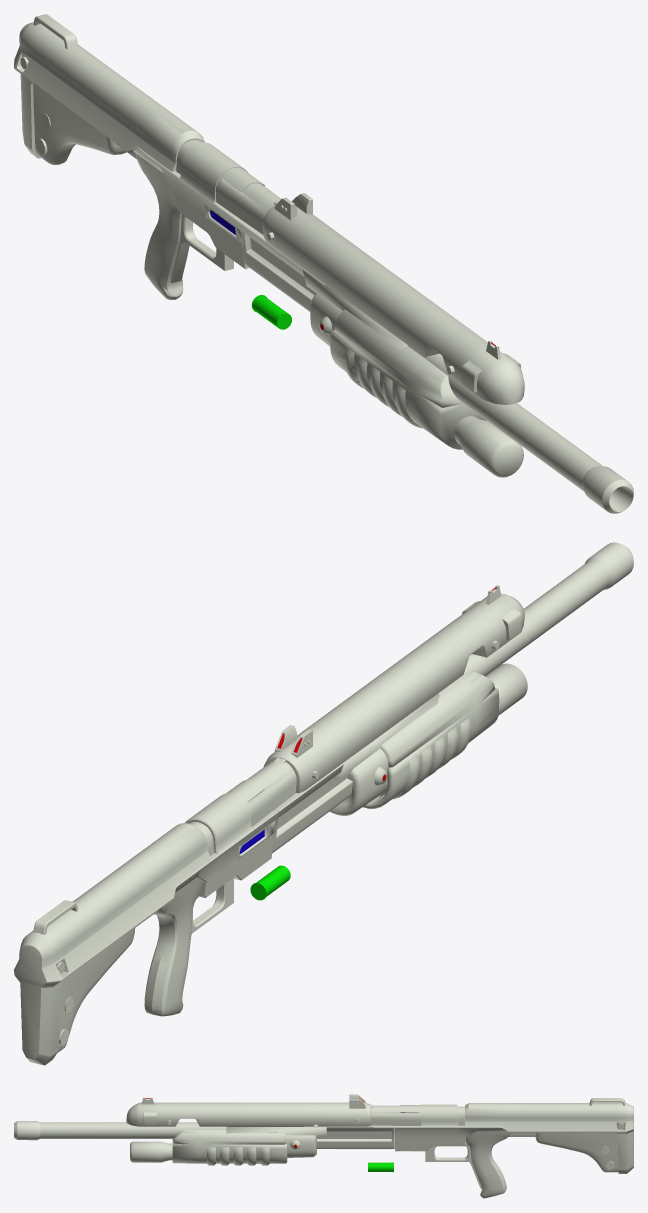
The model's file is M90_CAWS_Rigged_v2.fbx.
3 views of the same model, one above another, from view 1: azimuth 30°, elevation 25°; view 2: azimuth 150°, elevation 25°; view 3: azimuth 270°, elevation 25° (orthographic). The views are drawn at different scales.
Visible parts, largest first — view 1: MainBody, Pump, Shell1; view 2: MainBody, Pump, Rear sights, Shell1; view 3: MainBody, Pump, Shell1, Rear sights.
Part boxes in pixels (x1,y1,x2,y2): MainBody: (14,14,633,513); Pump: (310,293,523,477); Shell1: (251,295,291,329); MainBody: (14,542,633,1065); Pump: (329,663,527,815); Rear sights: (273,725,312,764); Shell1: (250,865,290,900); MainBody: (14,1097,633,1198); Pump: (130,1130,316,1165); Shell1: (368,1162,393,1172); Rear sights: (349,1094,374,1108).
Bounding box in the file's own units: 6.96 × 19.28 × 108.
